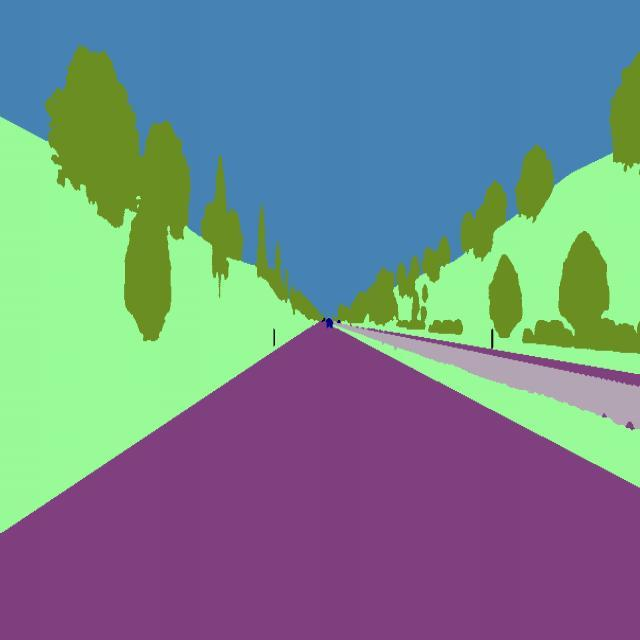safe: (323, 314, 335, 332)
